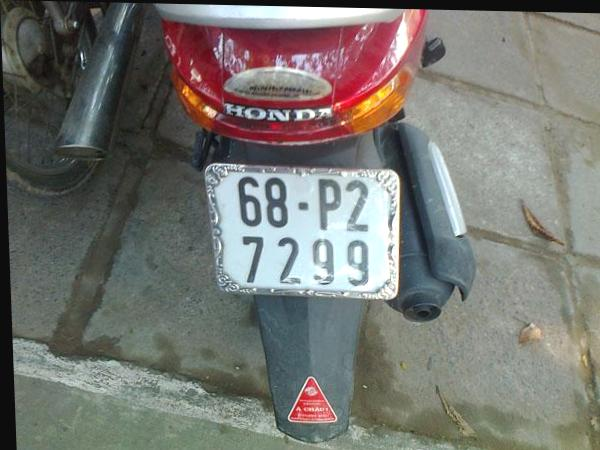License_Plate: (211, 160, 401, 302)
